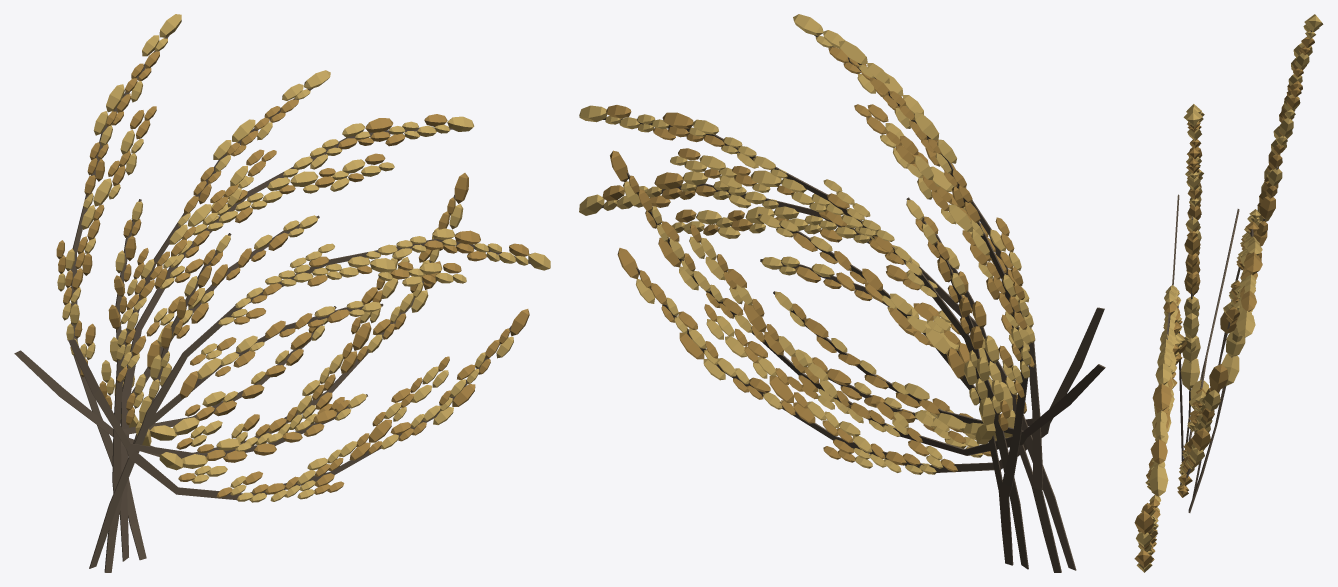
File: rice_corn.fbx
The picture shows the model from 3 angles, left to right: view 1: azimuth 30°, elevation 25°; view 2: azimuth 150°, elevation 25°; view 3: azimuth 270°, elevation 25°; orthographic projection. The views are drawn at different scales.
Parts seen in each view (by area): view 1: corn; view 2: corn; view 3: corn.
Part boxes in pixels (x1,y1,x2,y2): corn: [14, 14, 550, 572]; corn: [579, 14, 1105, 572]; corn: [1134, 14, 1323, 572].
Size of the model in its own units: 107 by 99.23 by 31.08.
